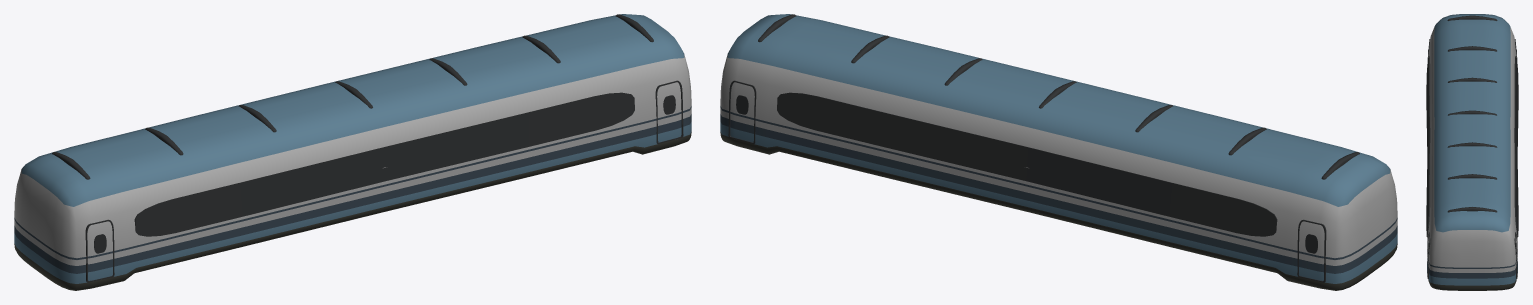
The model's file is quaternius-train-pack-april-highspeed-wagon.glb.
3 renders of one model, left to right at view 1: azimuth 30°, elevation 25°; view 2: azimuth 150°, elevation 25°; view 3: azimuth 270°, elevation 25°, orthographic. The views are drawn at different scales.
Parts seen in each view (by area): view 1: HighspeedTrain_Wagon; view 2: HighspeedTrain_Wagon; view 3: HighspeedTrain_Wagon.
Part boxes in pixels (<box>): HighspeedTrain_Wagon: <box>14,14,691,290</box>; HighspeedTrain_Wagon: <box>720,14,1397,290</box>; HighspeedTrain_Wagon: <box>1426,14,1518,290</box>.
Size of the model in its own units: 11.18 by 1.9 by 2.03.
Materials: 1 (1 with a texture image).
